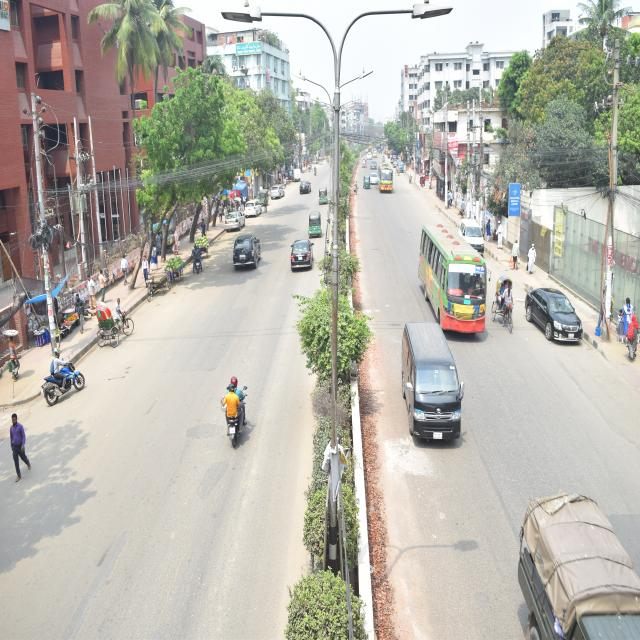bus: (402, 206, 493, 349), (376, 163, 398, 202)
car: (514, 260, 616, 367), (223, 216, 262, 280), (451, 197, 490, 258), (288, 233, 320, 284), (218, 195, 244, 238), (241, 187, 261, 226), (268, 181, 289, 207), (298, 176, 310, 204), (371, 159, 379, 194)
microbus: (389, 300, 476, 484)
motorbike: (214, 354, 278, 467), (189, 240, 204, 285), (308, 161, 325, 182)
pickup-van: (484, 493, 637, 640)
